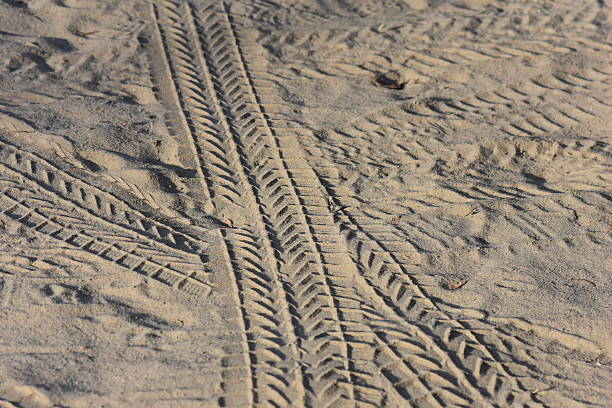vehicle_track: (151, 0, 539, 405), (0, 141, 210, 295)
